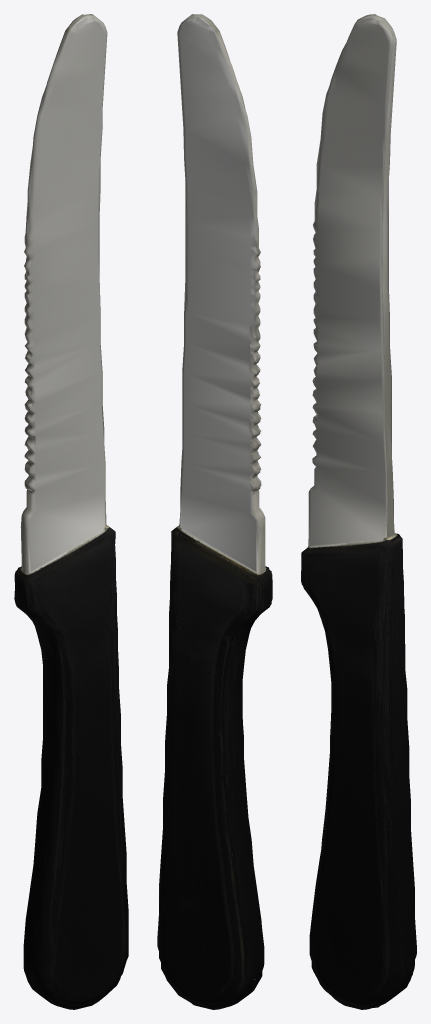
Rendered from Steak_Knife_0225002706_texture.glb.
3 renders of one model, left to right at view 1: azimuth 30°, elevation 25°; view 2: azimuth 150°, elevation 25°; view 3: azimuth 330°, elevation 25°, orthographic.
Parts seen in each view (by area): view 1: Mesh_0; view 2: Mesh_0; view 3: Mesh_0.
Boxes of the visible parts, bbox=[...] form: Mesh_0: bbox=[14, 14, 128, 1009]; Mesh_0: bbox=[157, 14, 272, 1009]; Mesh_0: bbox=[301, 14, 416, 1009].
Bounding box in the file's own units: 0.0166 × 0.1524 × 0.0072.
Materials: 1 (1 with a texture image).
